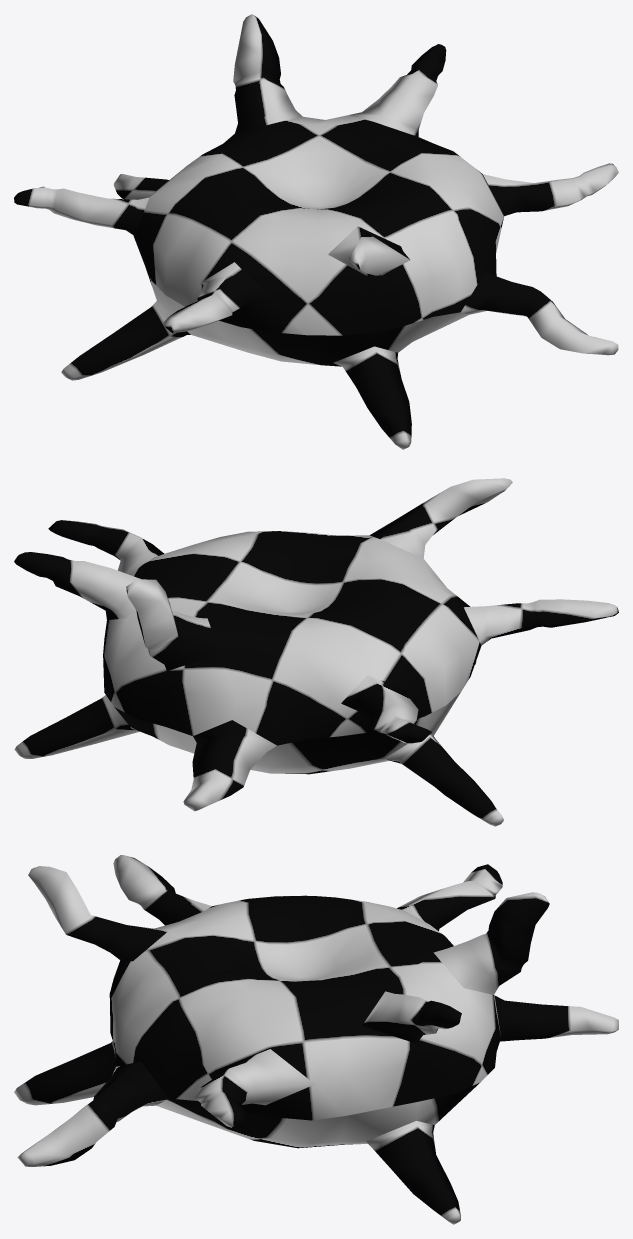
File: lordakia.obj
3 views of the same model, one above another, from view 1: azimuth 30°, elevation 25°; view 2: azimuth 150°, elevation 25°; view 3: azimuth 270°, elevation 25° (orthographic). The views are drawn at different scales.
Visible parts, largest first — view 1: lordakia; view 2: lordakia; view 3: lordakia.
Boxes of the visible parts, <box> form: lordakia: <box>14,14,618,449</box>; lordakia: <box>14,478,618,826</box>; lordakia: <box>14,855,618,1224</box>.
Size of the model in its own units: 78.87 by 36.05 by 76.69.
1 material, 1 textured.
